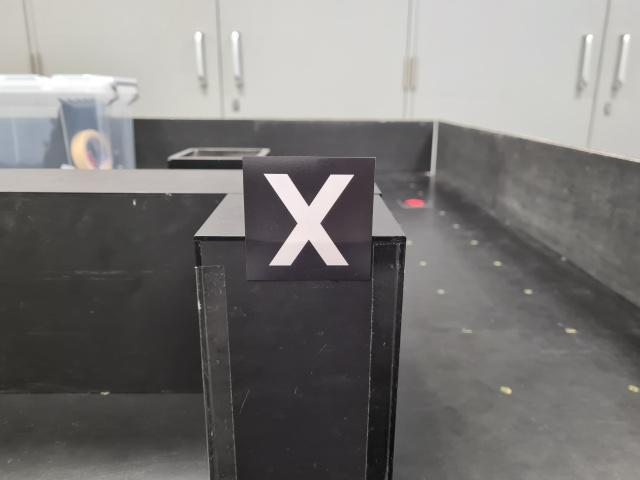x: (241, 157, 375, 282)
